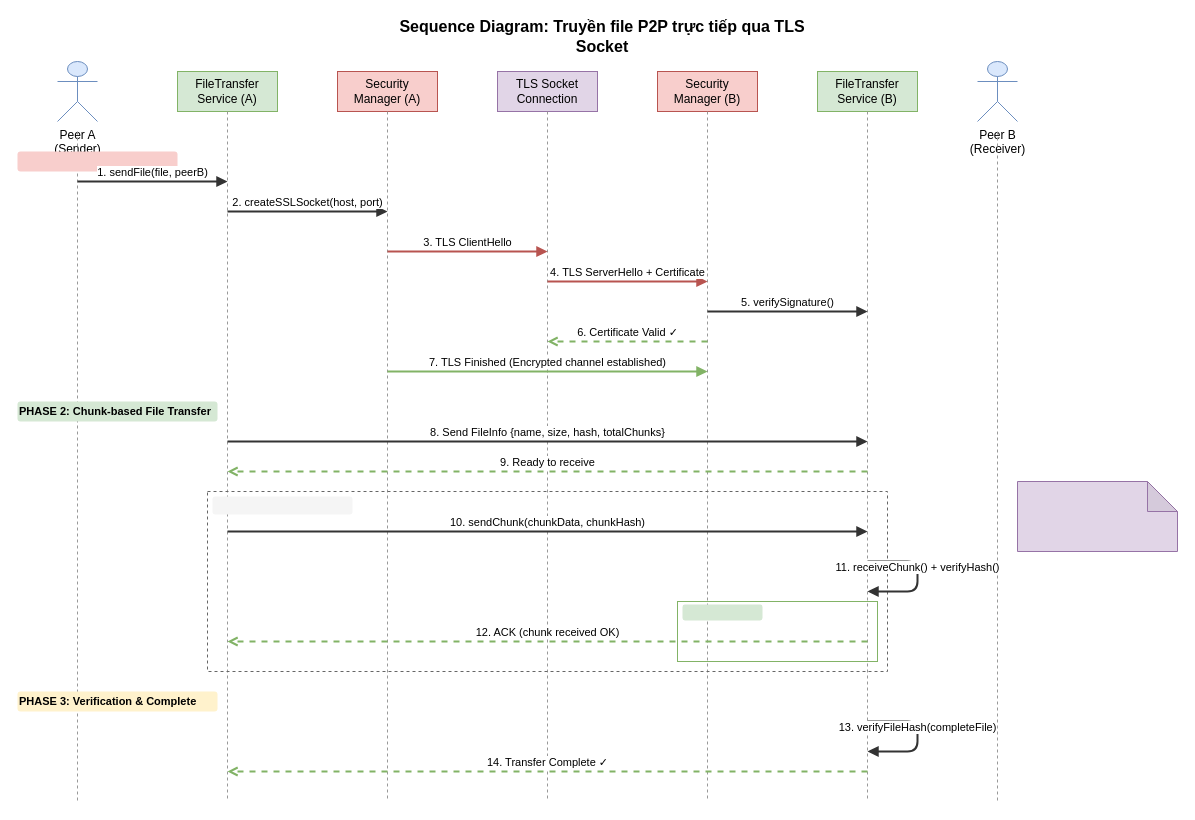
The diagram is 1195 pixels wide and 820 high, and some of its shapes have lost their labels. The shapes that lost their labels are listed below. From the top down, each one's centre as x and y in pixels, then its label:
At [97,161]: "PHASE 1: TLS Handshake".
At [282,505]: "loop [for each chunk 1..N]".
At [1097,516]: "Chunk Size: 1MB (1048576 bytes) Hash: SHA-256 per chunk Encryption: TLS 1.3".
At [722,612]: "alt [hash valid]".
